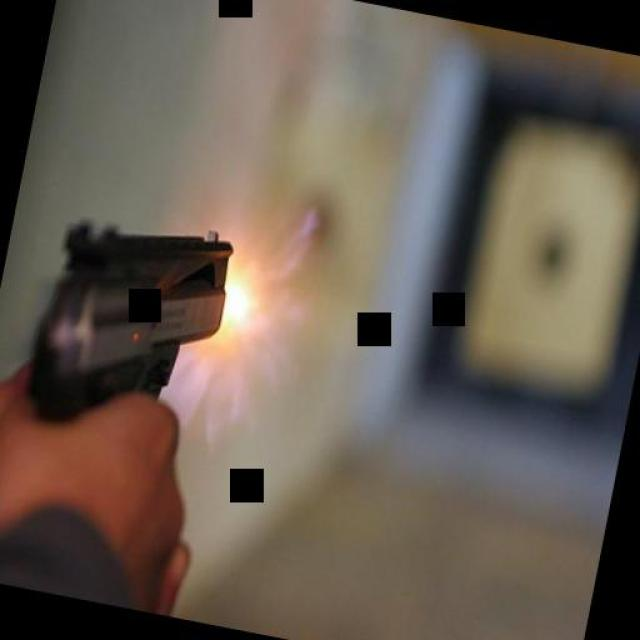gun: (16, 191, 239, 455)
